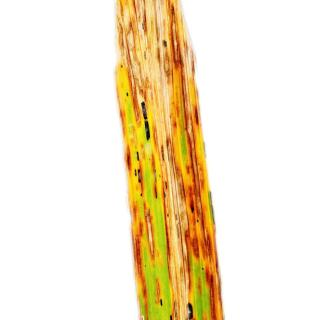Bercak-Cokelat-Sempit: (140, 207, 162, 266), (147, 148, 162, 202)
